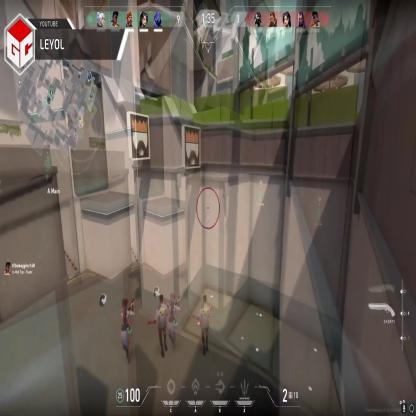enemy: (150, 293, 167, 358), (116, 296, 134, 356), (194, 292, 210, 352)
enemy_head: (121, 298, 128, 312), (158, 294, 164, 305), (203, 294, 208, 305)
